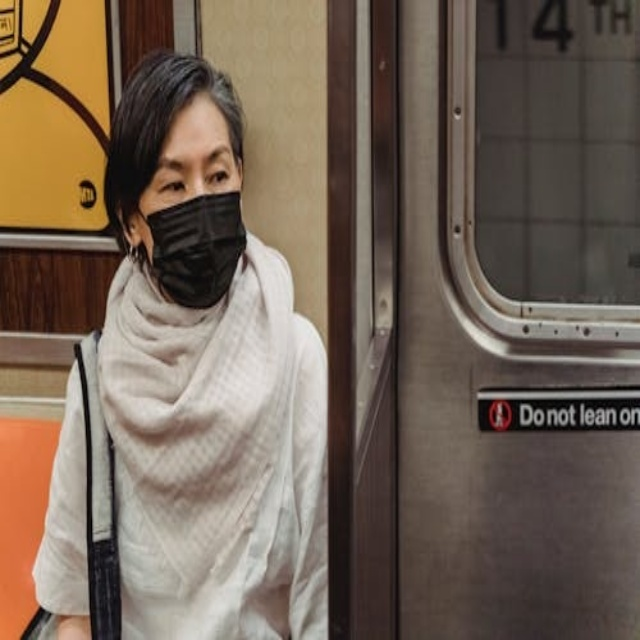Mascara: (138, 190, 247, 308)
Sin_gafas: (207, 169, 230, 186), (159, 179, 185, 194)
